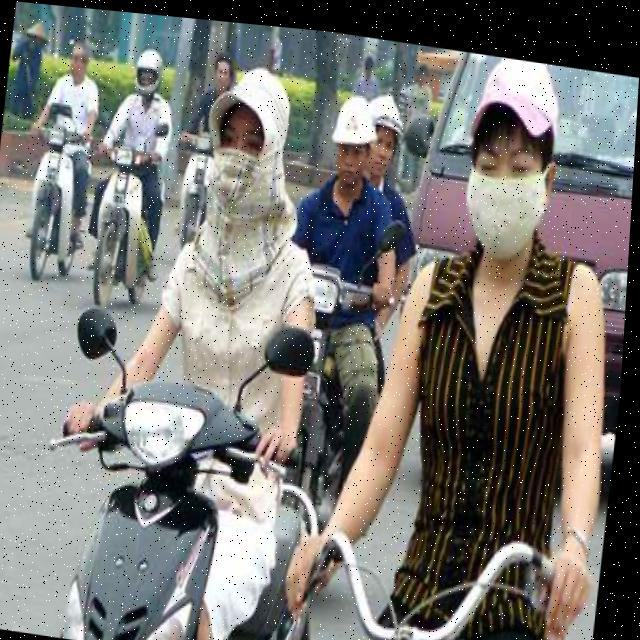illegal_helmet: (454, 47, 570, 263), (198, 48, 300, 216), (324, 80, 383, 186)
